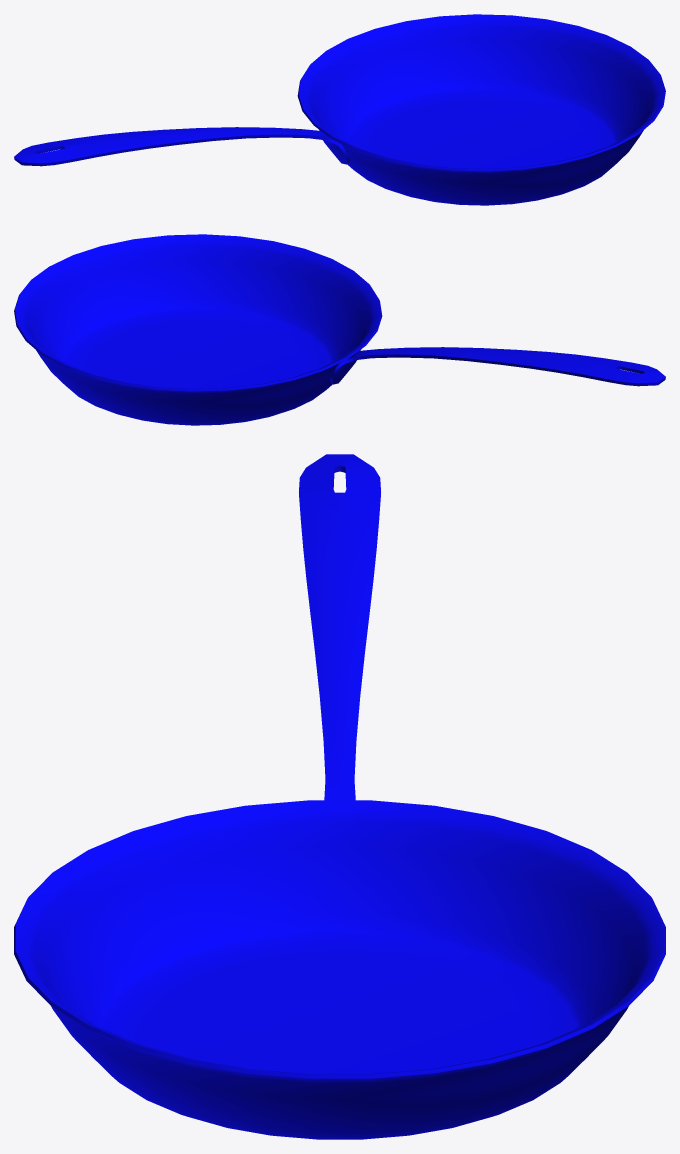
File: skovoroda.FBX
The picture shows the model from 3 angles, top to bottom: view 1: azimuth 30°, elevation 25°; view 2: azimuth 150°, elevation 25°; view 3: azimuth 270°, elevation 25°; orthographic projection. The views are drawn at different scales.
Parts seen in each view (by area): view 1: skovoroda, skovoroda_c2; view 2: skovoroda, skovoroda_c2; view 3: skovoroda, skovoroda_c2.
Boxes of the visible parts, <box> form: skovoroda: <box>14,14,665,205</box>; skovoroda_c2: <box>299,15,663,205</box>; skovoroda: <box>14,234,665,425</box>; skovoroda_c2: <box>14,235,381,424</box>; skovoroda: <box>14,454,665,1139</box>; skovoroda_c2: <box>14,802,665,1139</box>.
Bounding box in the file's own units: 0.5728 × 0.0926 × 0.2922.
